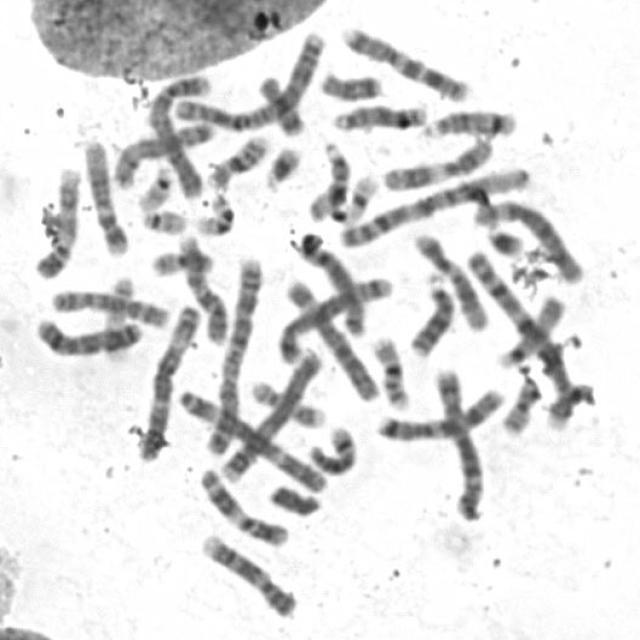A1: (461, 243, 583, 433), (329, 160, 534, 250)
A2: (168, 25, 328, 133), (203, 252, 266, 456)
A3: (172, 384, 331, 495), (132, 296, 204, 463)
B4: (214, 340, 326, 486), (140, 68, 217, 200)
B5: (272, 270, 397, 366), (428, 362, 488, 524)
C10: (173, 230, 230, 346), (47, 284, 172, 330)
C11: (194, 463, 292, 549), (379, 128, 497, 193)
C12: (409, 227, 491, 333), (80, 134, 132, 256)
C6: (280, 272, 382, 403), (468, 192, 586, 286)
C7: (338, 19, 474, 103), (372, 380, 508, 443)
C8: (292, 227, 370, 339), (108, 114, 219, 190)
C9: (195, 527, 300, 620), (29, 160, 84, 280)
D13: (406, 266, 458, 358), (326, 96, 431, 134)
D14: (418, 102, 520, 140), (304, 420, 359, 476)
D15: (492, 289, 568, 369), (303, 137, 352, 223)
E16: (202, 128, 273, 191), (368, 330, 414, 411)
E17: (246, 373, 330, 429), (98, 272, 138, 358)
E18: (253, 70, 307, 136), (314, 65, 384, 102)
F19: (333, 168, 381, 225), (190, 187, 237, 237)
F20: (497, 367, 543, 436), (147, 243, 216, 277)
G21: (259, 139, 304, 193), (482, 219, 528, 258)
G22: (132, 161, 177, 212), (135, 203, 190, 236)
X: (108, 114, 219, 190), (30, 311, 144, 358)
Y: (263, 478, 323, 518)
